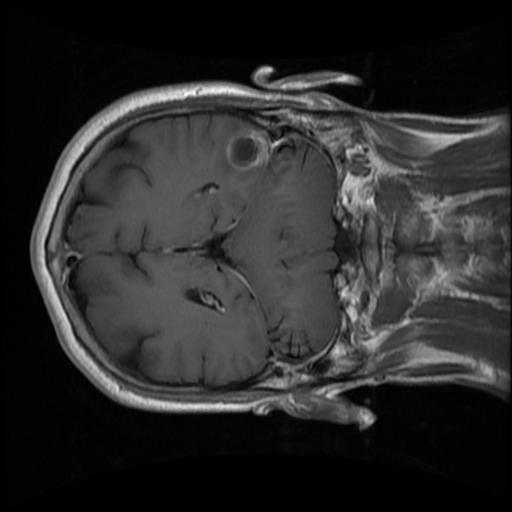glioma: (224, 126, 270, 172)
